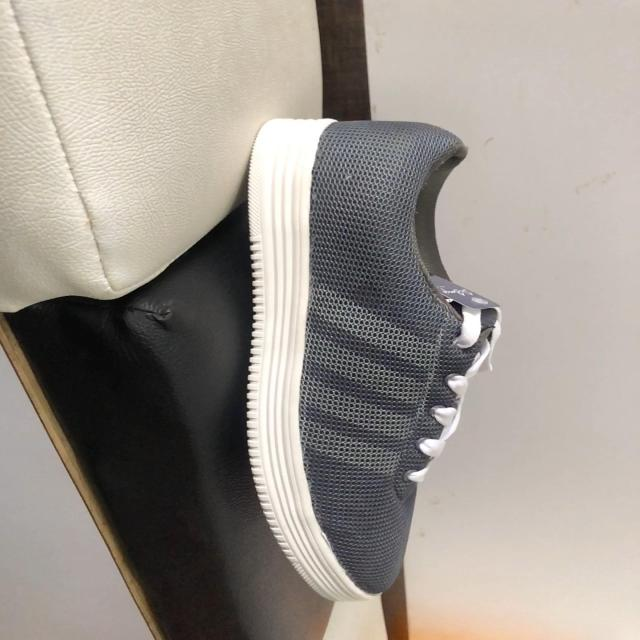shoe: (244, 119, 502, 605)
